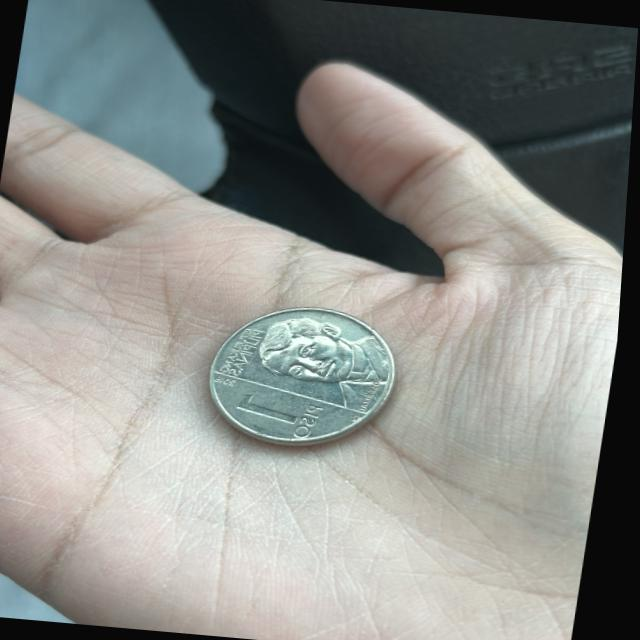1_New_Front: (241, 388, 331, 439)
